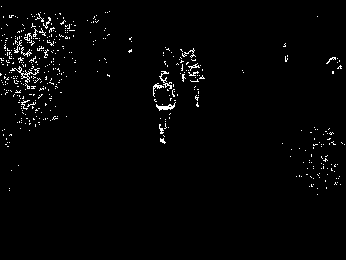person: (150, 68, 179, 143), (182, 53, 206, 106)
